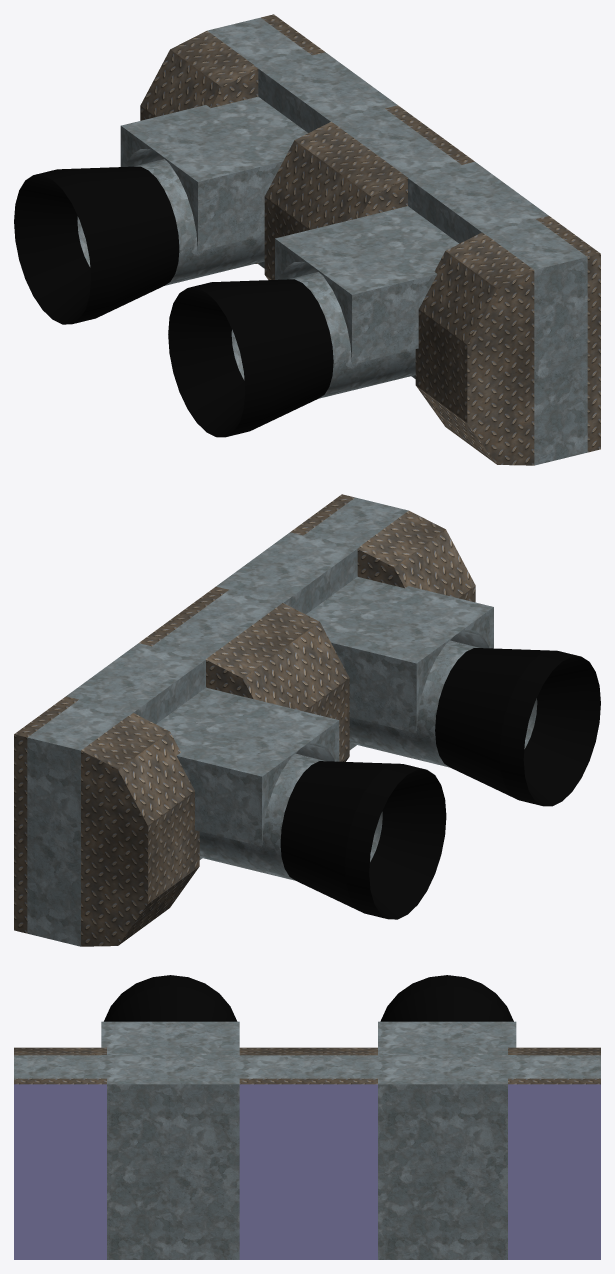
File: Engine2.fbx
The picture shows the model from 3 angles, top to bottom: view 1: azimuth 30°, elevation 25°; view 2: azimuth 150°, elevation 25°; view 3: azimuth 270°, elevation 25°; orthographic projection. The views are drawn at different scales.
Visible parts, largest first — view 1: mergedBlocks; view 2: mergedBlocks; view 3: mergedBlocks.
Boxes of the visible parts, <box> form: mergedBlocks: <box>14,14,600,465</box>; mergedBlocks: <box>14,494,600,946</box>; mergedBlocks: <box>14,975,600,1259</box>.
Bounding box in the file's own units: 23 × 14 × 42.44.
